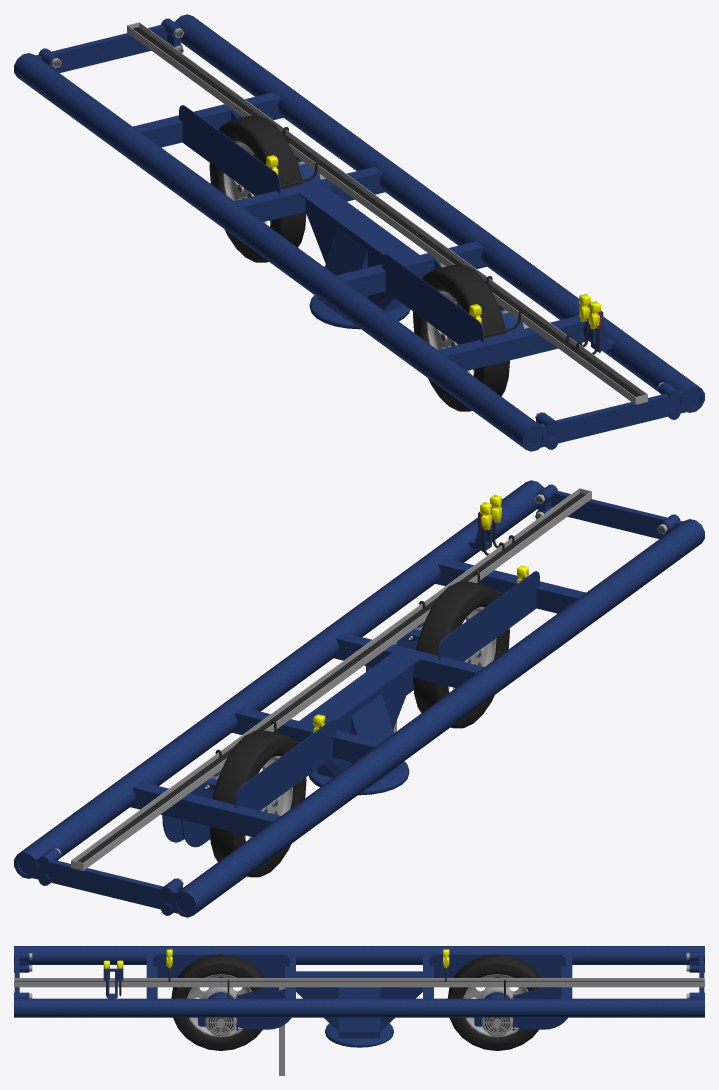
Rendered from Transport (Start Sensor).dae.
3 renders of one model, top to bottom at view 1: azimuth 30°, elevation 25°; view 2: azimuth 150°, elevation 25°; view 3: azimuth 270°, elevation 25°, orthographic. The views are drawn at different scales.
Visible parts, largest first — view 1: Track (×8), Mid_Detail (×4), wheel0, wheel1, High_Detail (×2); view 2: Track (×8), Mid_Detail (×4), High_Detail (×3), wheel1, wheel0; view 3: Track (×8), Mid_Detail (×4), High_Detail (×6), wheel0 (×3), wheel1 (×3).
Part boxes in pixels (x1,y1,x2,y2): Track (×8): [14, 14, 704, 451]; Mid_Detail (×4): [127, 22, 647, 404]; wheel0: [413, 264, 509, 411]; wheel1: [209, 115, 306, 262]; High_Detail (×2): [134, 27, 641, 396]; Track (×8): [14, 480, 704, 917]; Mid_Detail (×4): [71, 488, 591, 870]; High_Detail (×3): [77, 493, 584, 862]; wheel1: [209, 730, 306, 877]; wheel0: [413, 581, 509, 728]; Track (×8): [14, 946, 704, 1047]; Mid_Detail (×4): [14, 954, 704, 1075]; High_Detail (×6): [14, 968, 704, 1034]; wheel0 (×3): [171, 954, 266, 1050]; wheel1 (×3): [447, 954, 542, 1050].
Size of the model in its own units: 40.76 by 197 by 37.52.
Materials: 9 (3 with a texture image).
